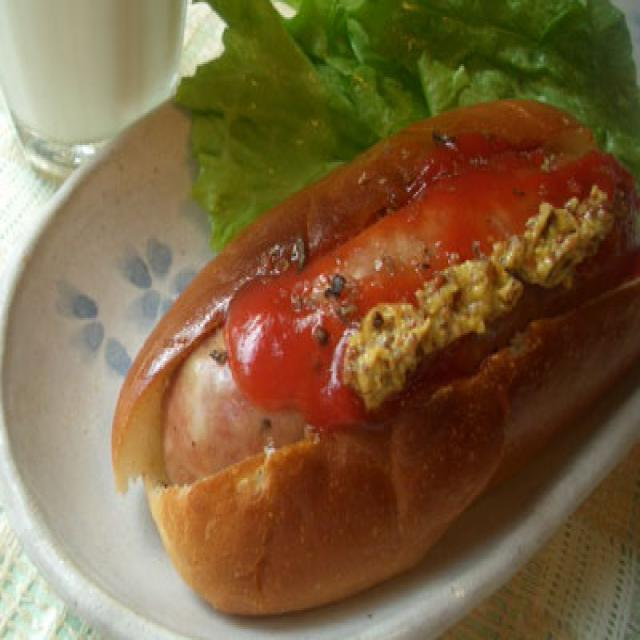Hot Dog: (93, 100, 640, 617)
